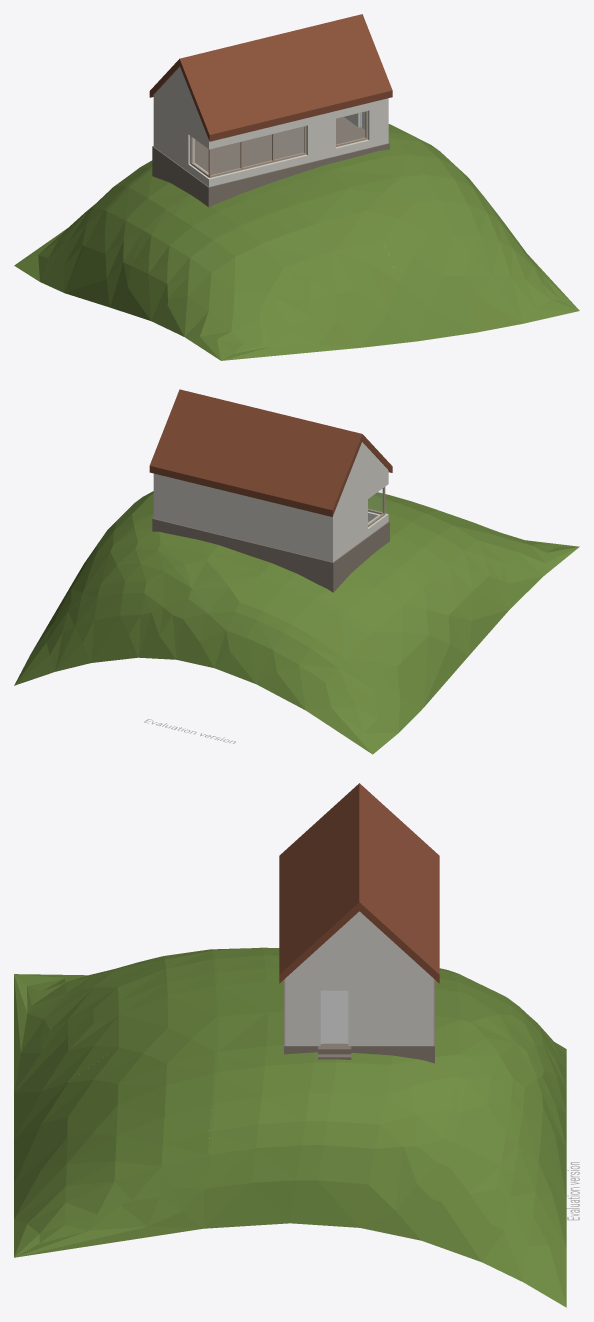
3 renders of one model, top to bottom at view 1: azimuth 30°, elevation 25°; view 2: azimuth 150°, elevation 25°; view 3: azimuth 270°, elevation 25°, orthographic. The views are drawn at different scales.
Visible parts, largest first — view 1: 3bqf5ZY_nDpfb1hfmOkxFk, 2KoBar2pfAWBou8q$ldGHy, 2W4bl$KK1Brv_UEOkAThqU, 3g46_woBL6sugXeY5_WP6n, 1hwEPyGUD1vwPpm508N9dQ, 23dVSDsxXCPhtqOSjMZ_H9; view 2: 3bqf5ZY_nDpfb1hfmOkxFk, 3lPsczHcDCwepFiJhZqz9q, 3xUPAVO39FGgNkCUQqf4JV, 2W4bl$KK1Brv_UEOkAThqU, 1hwEPyGUD1vwPpm508N9dQ, 2KoBar2pfAWBou8q$ldGHy; view 3: 3bqf5ZY_nDpfb1hfmOkxFk, 3hw7qrktPAl8j6w3qKhwKm, 2KoBar2pfAWBou8q$ldGHy, 3lPsczHcDCwepFiJhZqz9q, 0Tif_$wI1FwAwq$OJt24I8, 2W4bl$KK1Brv_UEOkAThqU, 3xUPAVO39FGgNkCUQqf4JV.
Boxes of the visible parts, bbox=[...] form: 3bqf5ZY_nDpfb1hfmOkxFk: bbox=[14, 124, 579, 360]; 2KoBar2pfAWBou8q$ldGHy: bbox=[179, 14, 392, 141]; 2W4bl$KK1Brv_UEOkAThqU: bbox=[152, 117, 389, 207]; 3g46_woBL6sugXeY5_WP6n: bbox=[205, 98, 388, 186]; 1hwEPyGUD1vwPpm508N9dQ: bbox=[155, 67, 208, 185]; 23dVSDsxXCPhtqOSjMZ_H9: bbox=[275, 127, 303, 159]; 3bqf5ZY_nDpfb1hfmOkxFk: bbox=[14, 491, 579, 754]; 3lPsczHcDCwepFiJhZqz9q: bbox=[149, 389, 362, 516]; 3xUPAVO39FGgNkCUQqf4JV: bbox=[153, 473, 336, 562]; 2W4bl$KK1Brv_UEOkAThqU: bbox=[152, 518, 389, 592]; 1hwEPyGUD1vwPpm508N9dQ: bbox=[335, 442, 386, 560]; 2KoBar2pfAWBou8q$ldGHy: bbox=[144, 434, 392, 743]; 3bqf5ZY_nDpfb1hfmOkxFk: bbox=[14, 947, 566, 1307]; 3hw7qrktPAl8j6w3qKhwKm: bbox=[290, 911, 428, 1045]; 2KoBar2pfAWBou8q$ldGHy: bbox=[279, 783, 579, 1220]; 3lPsczHcDCwepFiJhZqz9q: bbox=[359, 783, 439, 983]; 0Tif_$wI1FwAwq$OJt24I8: bbox=[320, 990, 348, 1043]; 2W4bl$KK1Brv_UEOkAThqU: bbox=[284, 979, 434, 1063]; 3xUPAVO39FGgNkCUQqf4JV: bbox=[423, 970, 433, 1045].
Size of the model in its own units: 20 by 13.91 by 20.48.
